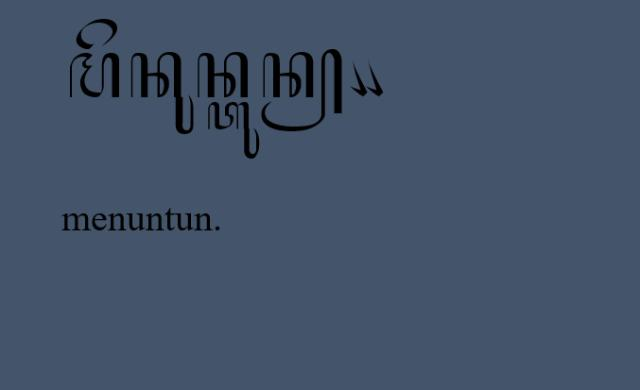-n: (258, 46, 344, 134)
e: (75, 16, 119, 50)
kom: (348, 59, 368, 99), (366, 56, 384, 98)
m: (68, 50, 122, 100)
n: (195, 51, 249, 99)
nu: (128, 50, 196, 138)
tu: (206, 101, 260, 159)
